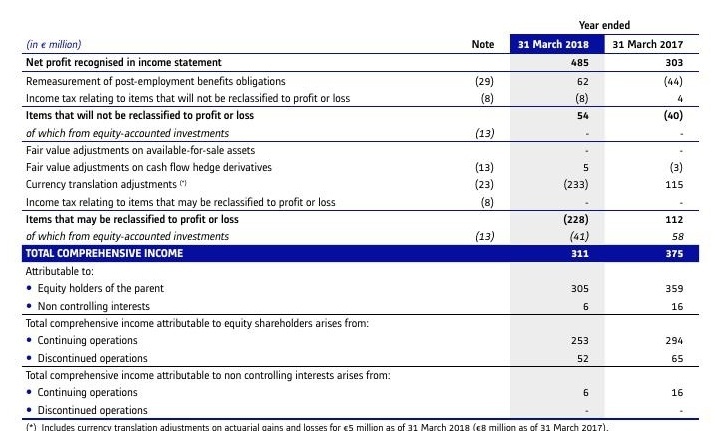table: (0, 0, 715, 431)
